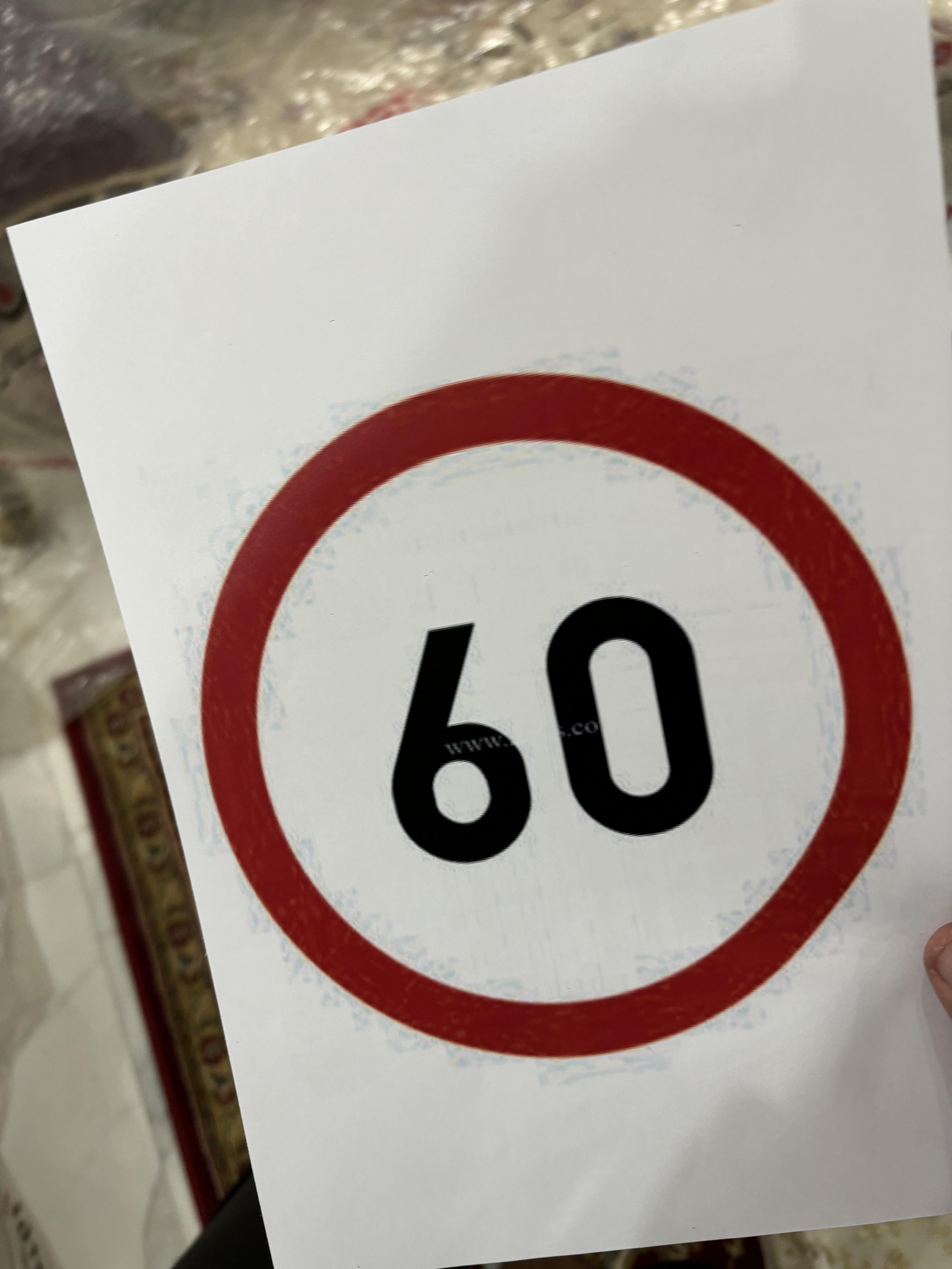60-Speed: (196, 363, 923, 1071)
